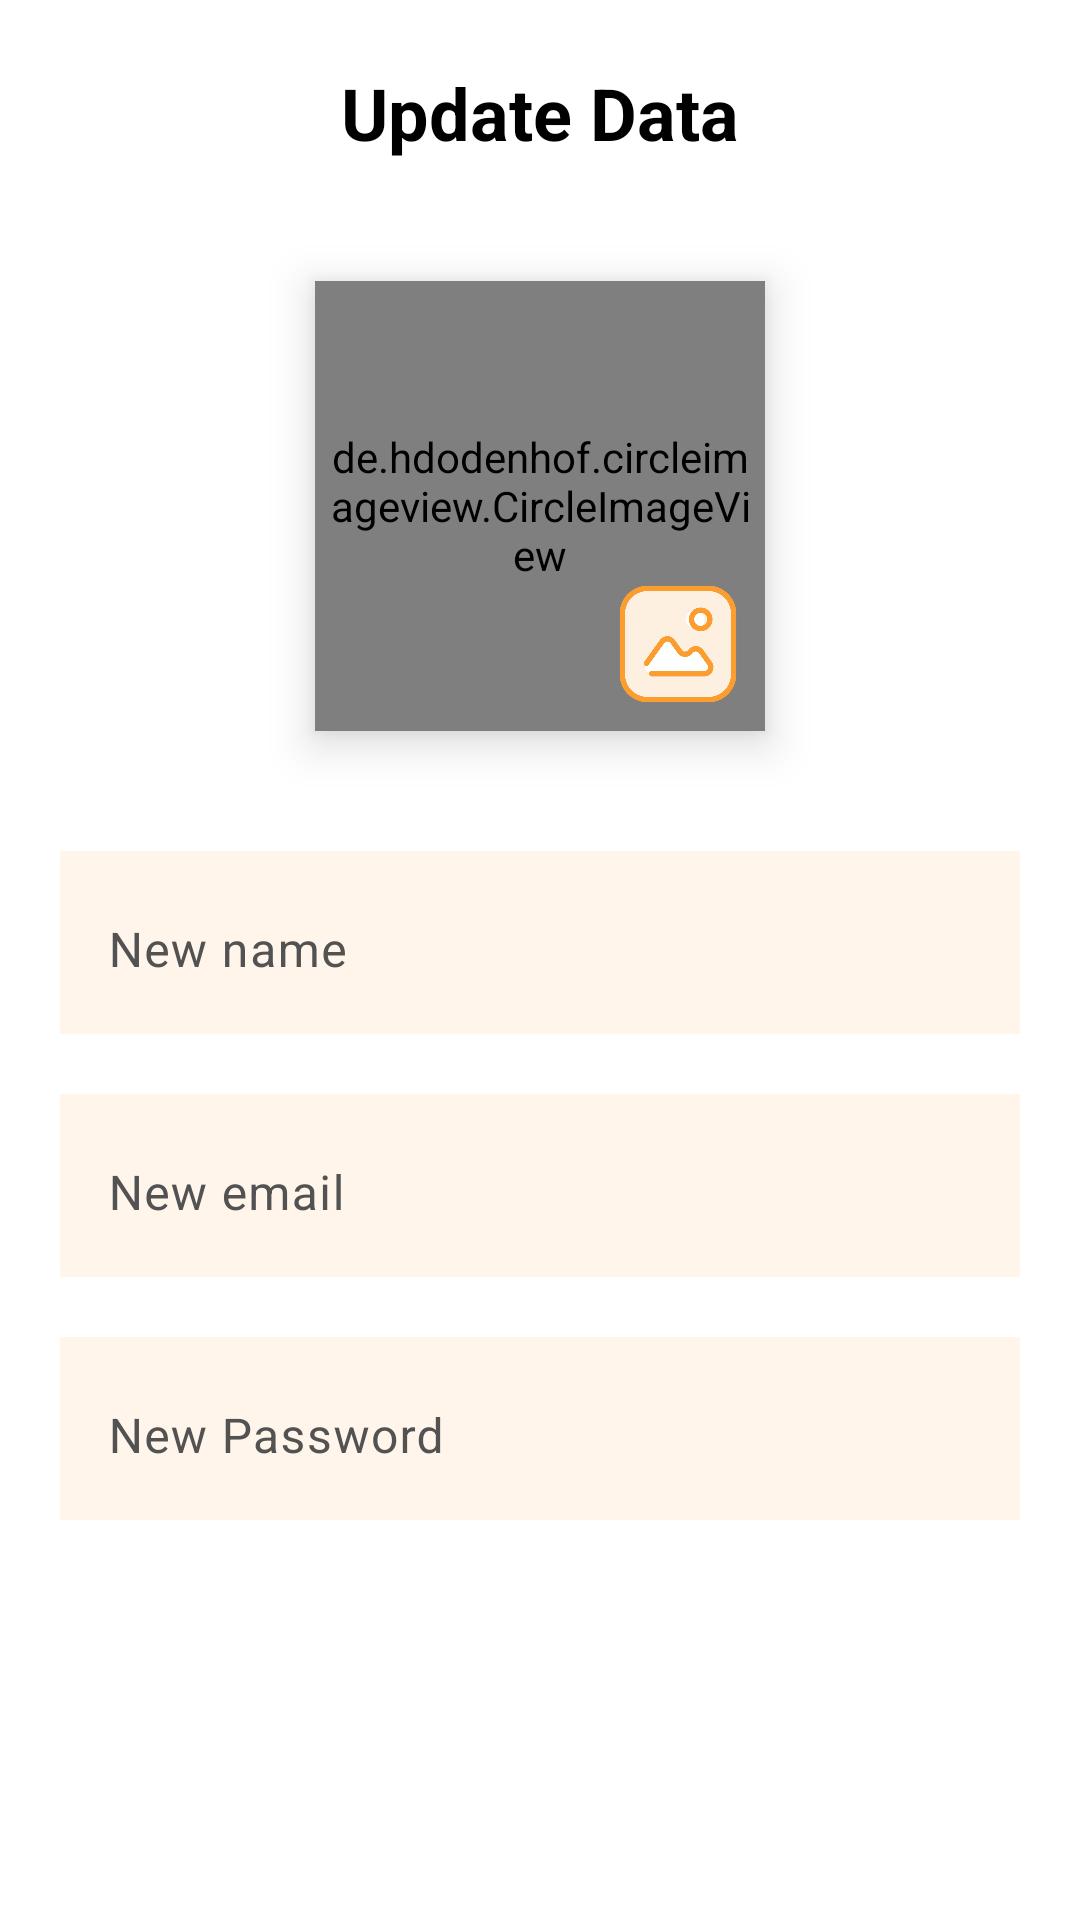

Named icons in this screenshot (1080x1920) and their centers, point (x, y):
gallery: point (678, 644)
